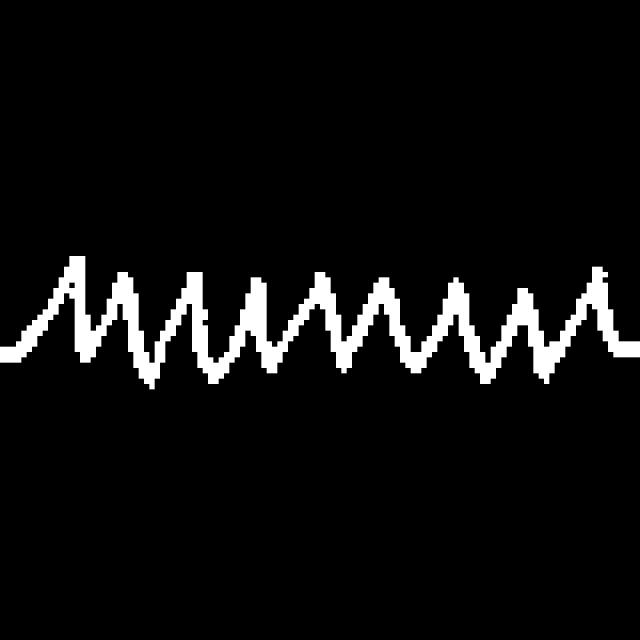resistor: (14, 246, 626, 397)
